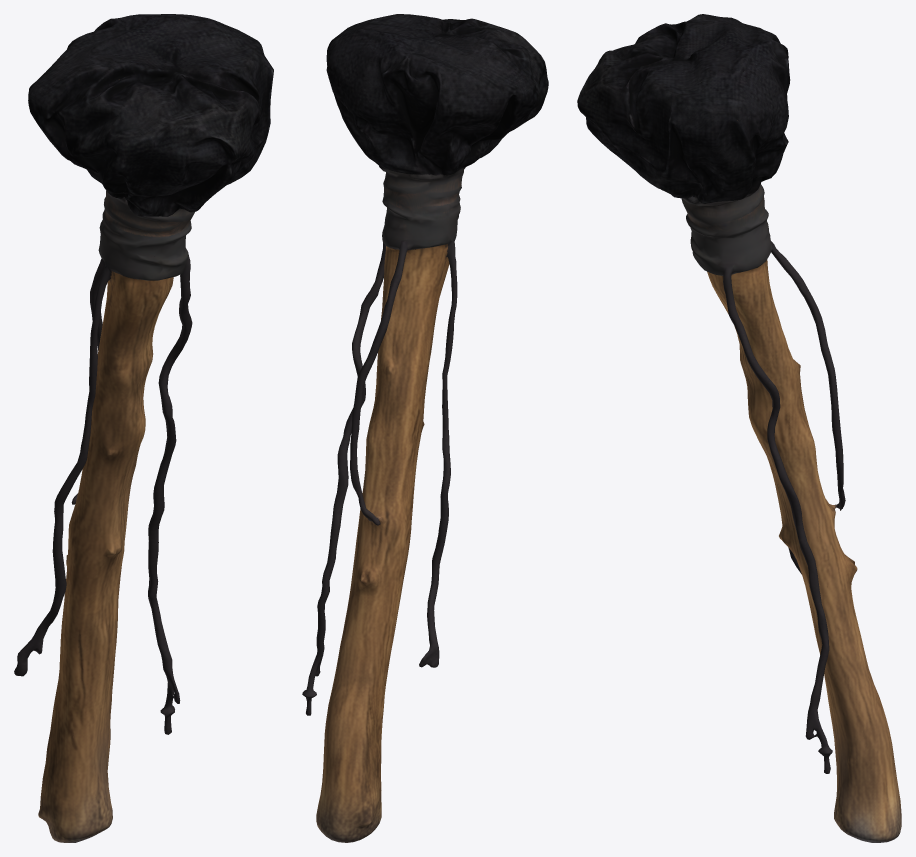
File: torch.glb
3 renders of one model, left to right at view 1: azimuth 30°, elevation 25°; view 2: azimuth 150°, elevation 25°; view 3: azimuth 270°, elevation 25°, orthographic. The views are drawn at different scales.
Size of the model in its own units: 0.2502 by 0.9104 by 0.3351.
1 material, 1 textured.
